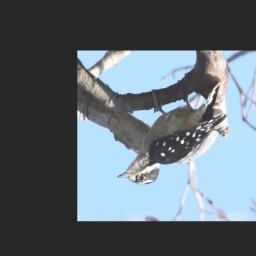Woodpecker: (115, 82, 229, 186)
